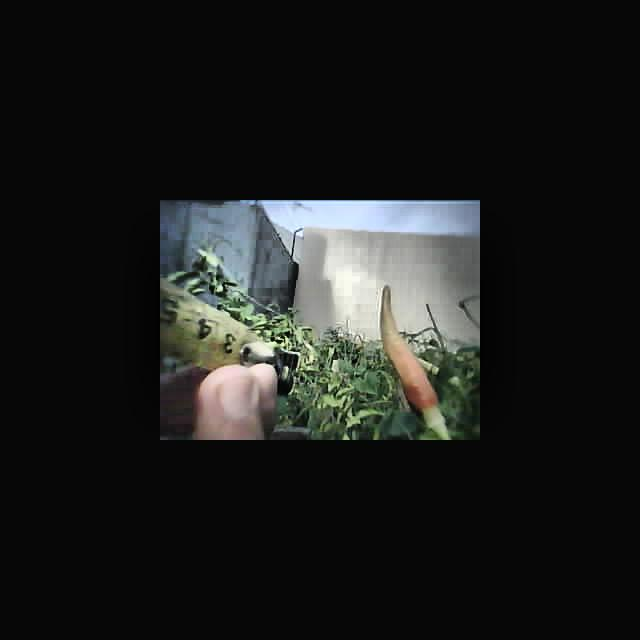Cabai: (374, 285, 446, 425)
